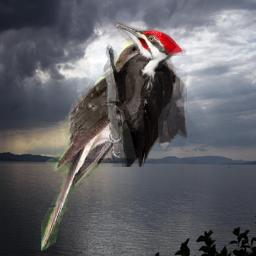Cuckoo: (41, 39, 167, 251)
Woodpecker: (100, 22, 187, 167)
